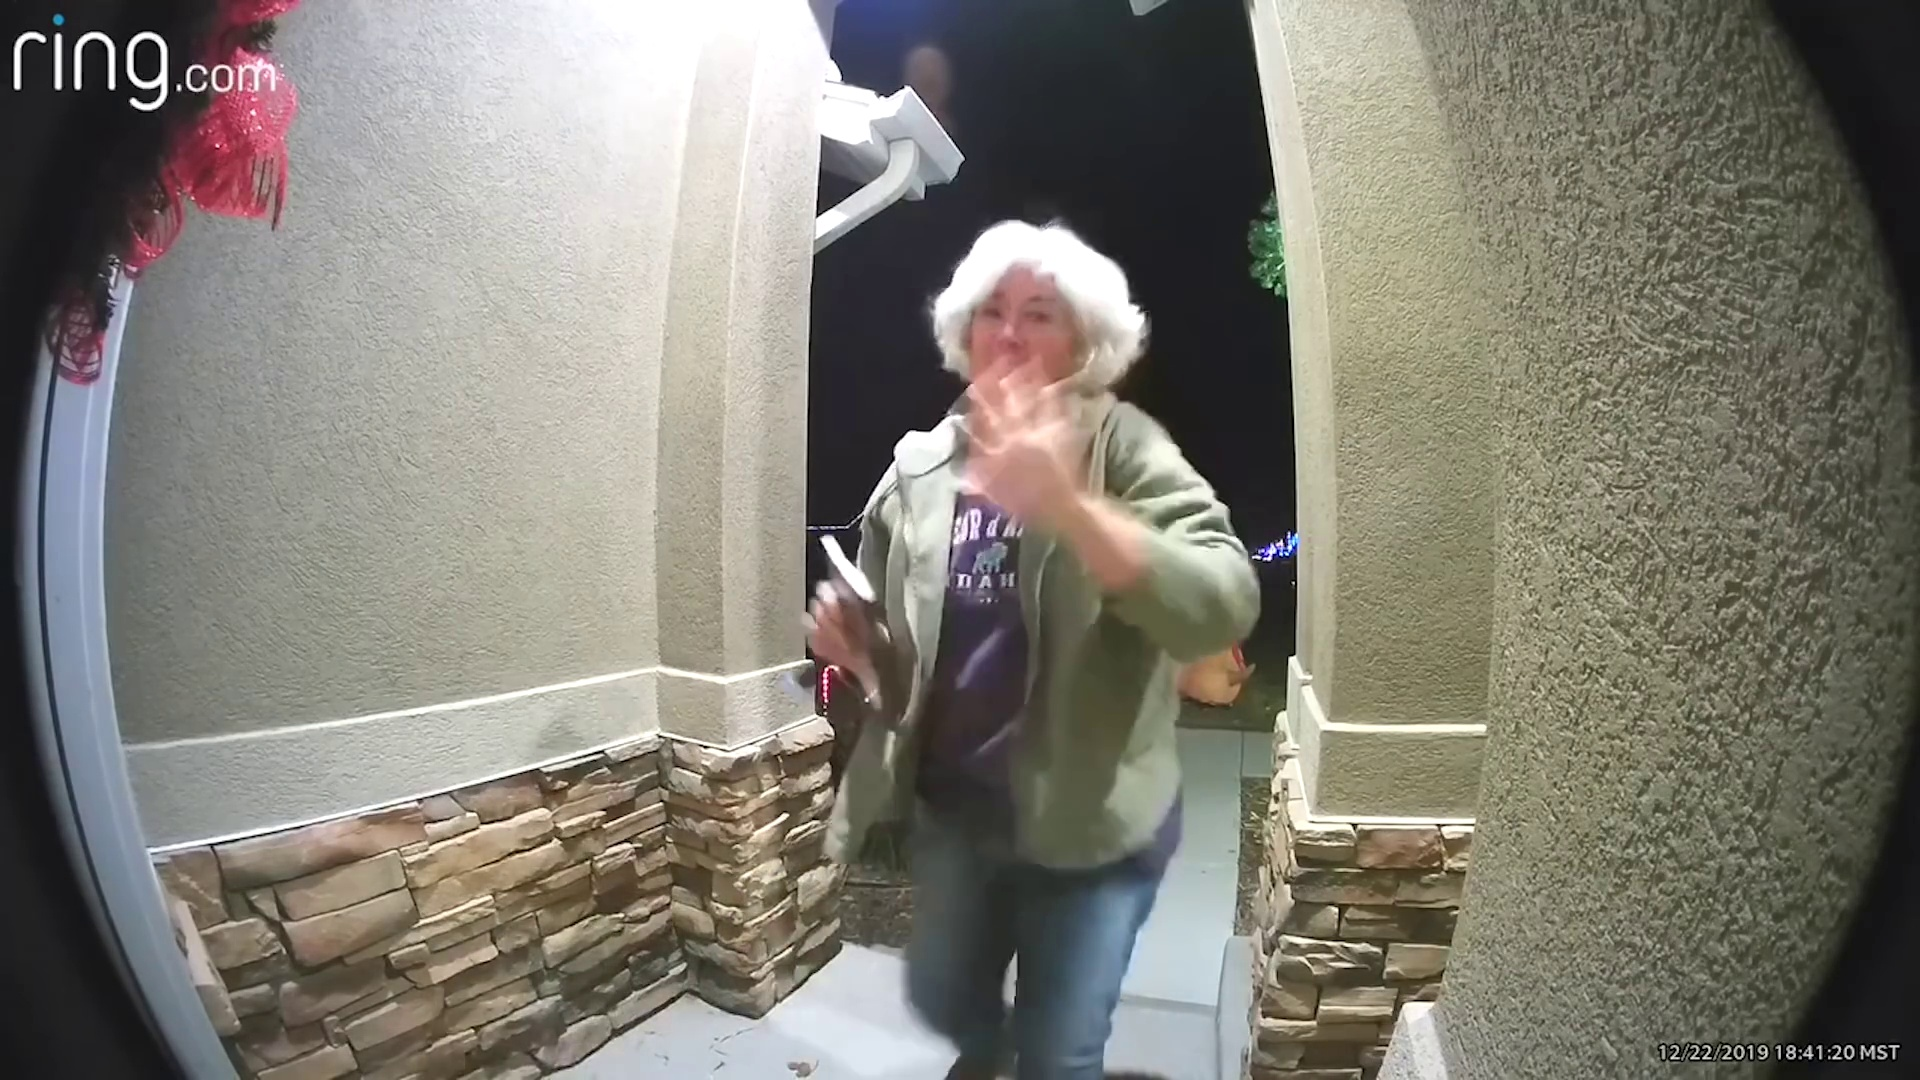face: (962, 276, 1078, 392)
